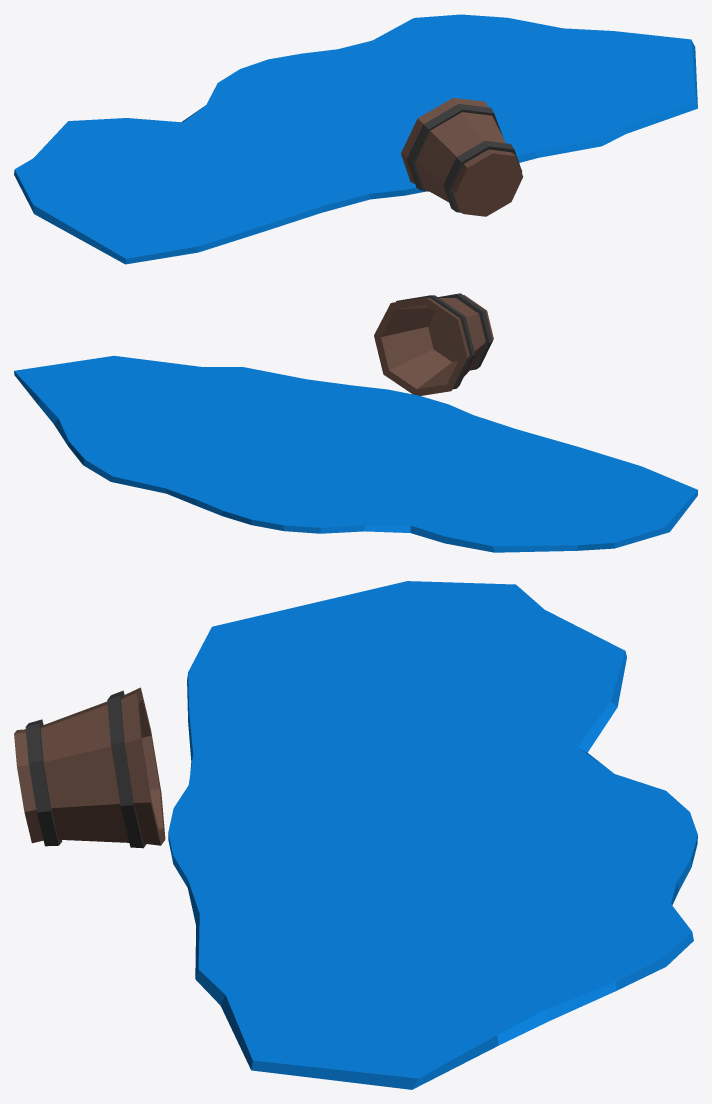
Rendered from SpilledBucketOfWater.fbx.
3 renders of one model, top to bottom at view 1: azimuth 30°, elevation 25°; view 2: azimuth 150°, elevation 25°; view 3: azimuth 270°, elevation 25°, orthographic. The views are drawn at different scales.
Visible parts, largest first — view 1: Bucket; view 2: Bucket; view 3: Bucket.
Part boxes in pixels (box(x1,y1,x2,y2)): Bucket: box(14, 14, 697, 264); Bucket: box(14, 293, 697, 552); Bucket: box(14, 581, 697, 1089).
Size of the model in its own units: 437 by 69.44 by 252.
